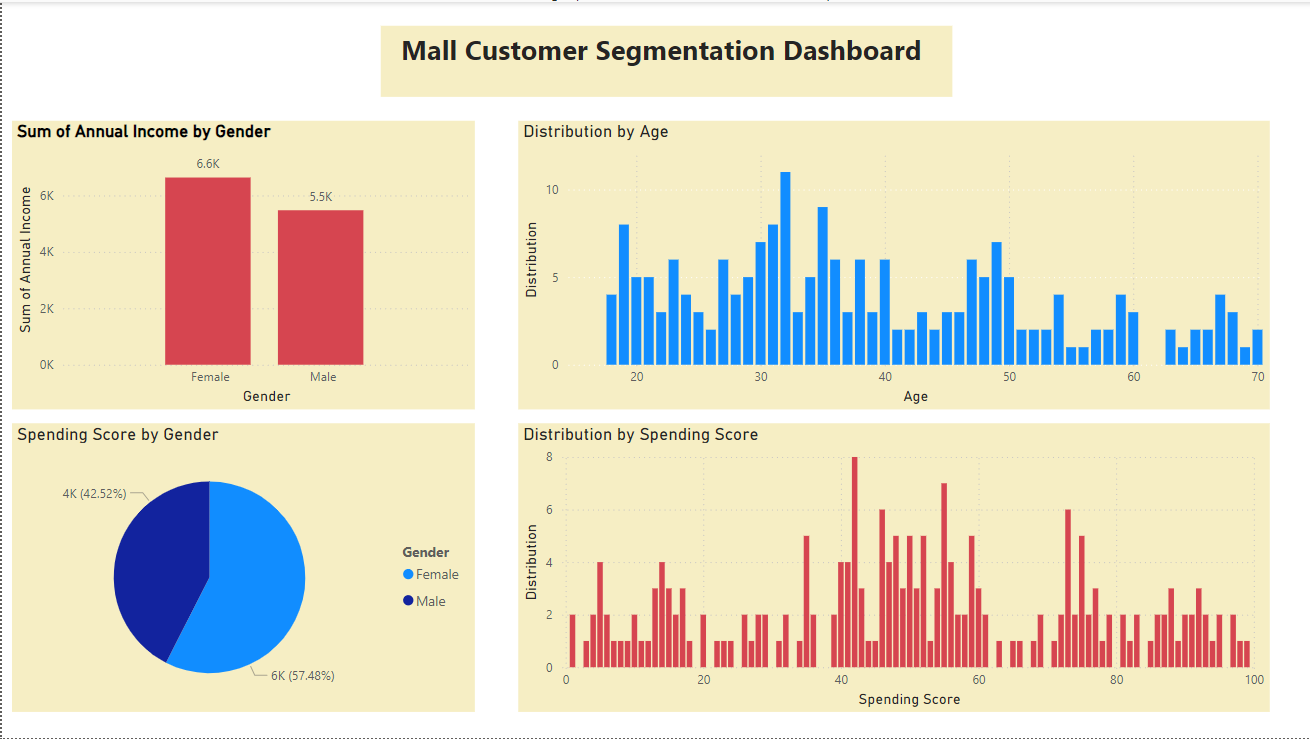

This screenshot's page, from the dashboard's own definition file:
{"tool":"powerbi","page":{"name":"Page 1","canvas":[1280,720],"ordinal":0},"visuals":[{"type":"textbox","box":[370.5,23.2,558.8,69.7],"z":0},{"type":"columnChart","fields":{"Category":["Mall_Customers.Genre"],"Y":["Sum(Mall_Customers.Annual Income (k$))"]},"box":[9.6,116.6,452.8,282.7],"z":1},{"type":"lineClusteredColumnComboChart","fields":{"Y":["CountNonNull(Mall_Customers.CustomerID)"],"Category":["Mall_Customers.Age"]},"box":[505,116.6,735.5,282.7],"z":2},{"type":"pieChart","fields":{"Y":["Sum(Mall_Customers.Spending Score (1-100))"],"Category":["Mall_Customers.Genre"]},"box":[9.6,411.7,452.8,282.7],"z":3},{"type":"lineClusteredColumnComboChart","fields":{"Category":["Mall_Customers.Spending Score (1-100)"],"Y":["CountNonNull(Mall_Customers.CustomerID)"]},"box":[505,411.7,735.5,282.7],"z":4}]}

Visuals, with their boxes in screenshot pixels (x1, y1, x2, y2), scaled from the page's 1280x720 canvas onto the 1310x739 screenshot:
textbox: BBox(379, 24, 951, 95)
columnChart - Mall_Customers.Genre x Sum(Mall_Customers.Annual Income (k$)): BBox(10, 120, 473, 410)
lineClusteredColumnComboChart - CountNonNull(Mall_Customers.CustomerID) x Mall_Customers.Age: BBox(517, 120, 1270, 410)
pieChart - Sum(Mall_Customers.Spending Score (1-100)) x Mall_Customers.Genre: BBox(10, 423, 473, 713)
lineClusteredColumnComboChart - Mall_Customers.Spending Score (1-100) x CountNonNull(Mall_Customers.CustomerID): BBox(517, 423, 1270, 713)
